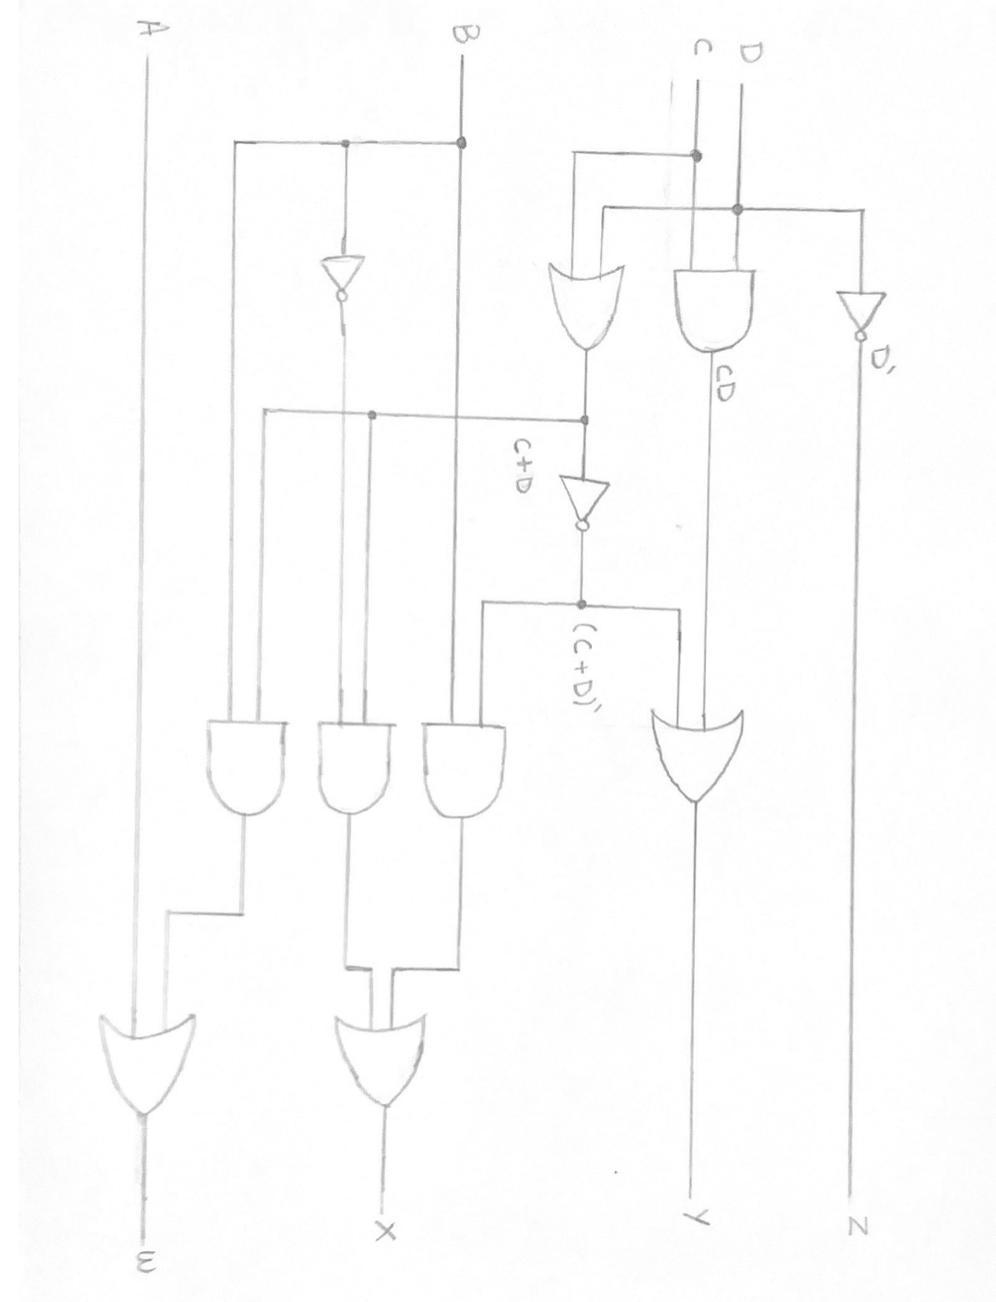AND: (200, 692, 296, 826), (413, 700, 515, 826), (308, 708, 403, 826), (667, 257, 769, 364)
NOT: (554, 460, 633, 547), (302, 250, 383, 317), (828, 282, 899, 337)
OR: (297, 1003, 474, 1116), (88, 998, 229, 1128), (637, 698, 764, 803), (540, 245, 638, 371)
